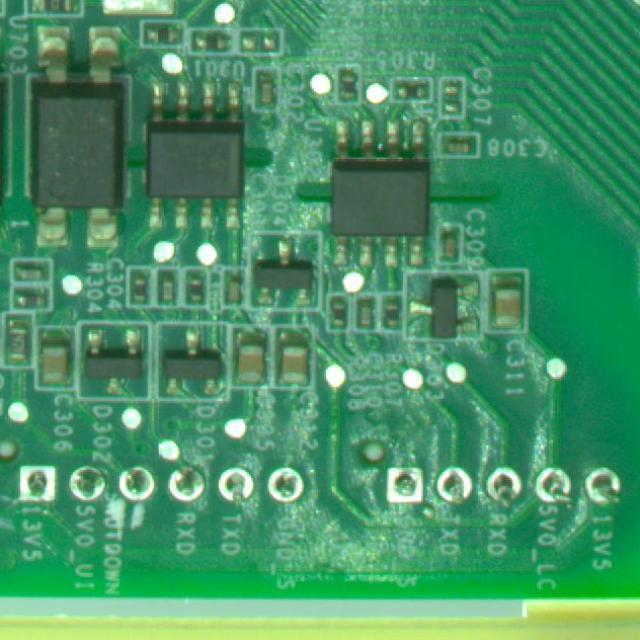Insufficient solder: (374, 458, 426, 511), (584, 460, 628, 514), (66, 450, 106, 508), (214, 460, 258, 510), (487, 456, 523, 514), (434, 457, 472, 510), (528, 457, 570, 502), (109, 463, 158, 501), (170, 458, 210, 504), (266, 460, 306, 504), (15, 456, 50, 504)
